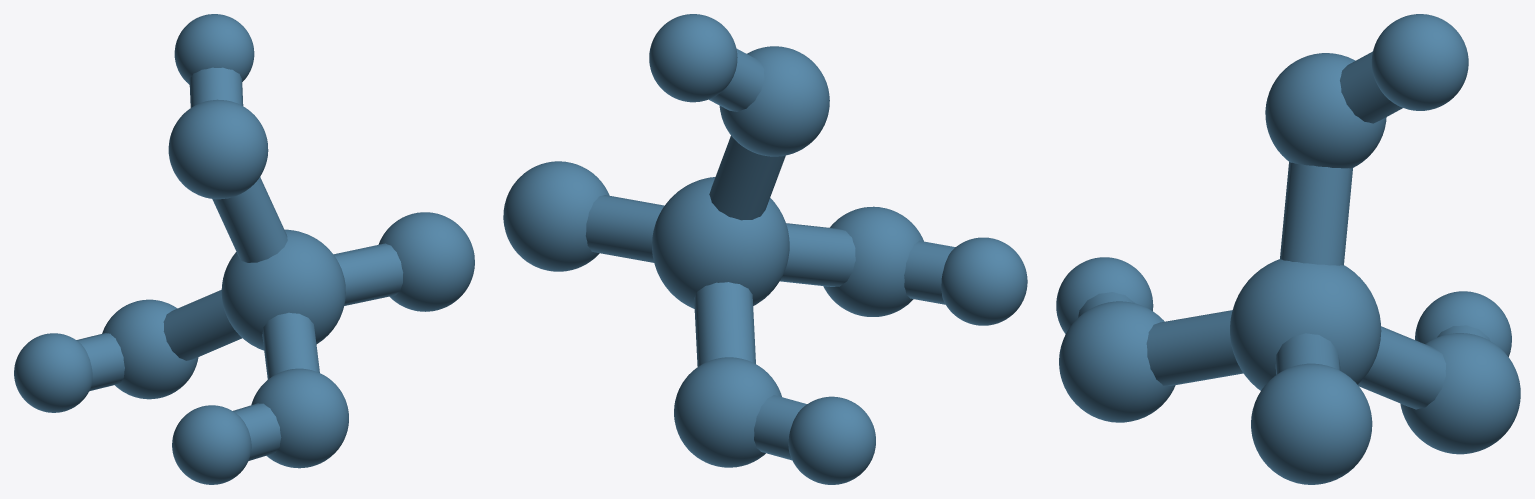
Rendered from 1004-bas-print_NIH3D.glb.
The picture shows the model from 3 angles, left to right: view 1: azimuth 30°, elevation 25°; view 2: azimuth 150°, elevation 25°; view 3: azimuth 270°, elevation 25°; orthographic projection. The views are drawn at different scales.
Parts seen in each view (by area): view 1: atoms, bonds; view 2: atoms, bonds; view 3: atoms, bonds.
Boxes of the visible parts, x1=… form: atoms: x1=14, y1=14, x2=474, y2=484; bonds: x1=76, y1=67, x2=403, y2=460; atoms: x1=503, y1=14, x2=1027, y2=484; bonds: x1=585, y1=48, x2=955, y2=460; atoms: x1=1056, y1=14, x2=1520, y2=484; bonds: x1=1078, y1=51, x2=1490, y2=409.
Bounding box in the file's own units: 4.03 × 3.76 × 3.44.
